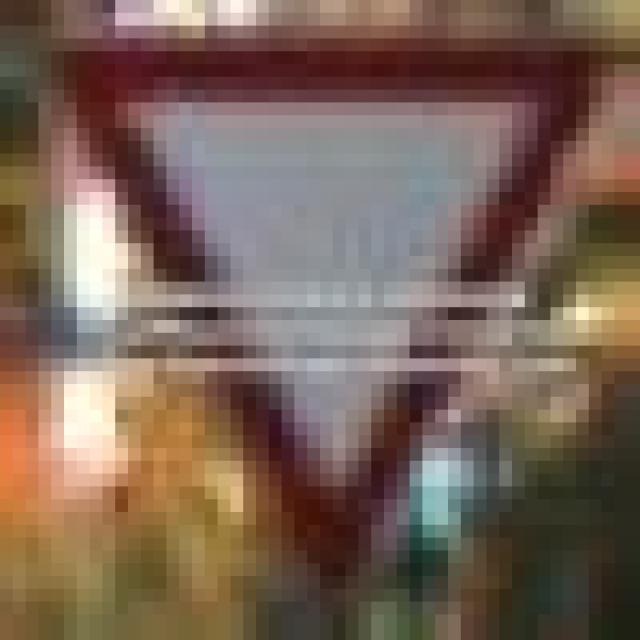gap_in_median: (0, 26, 627, 576)
